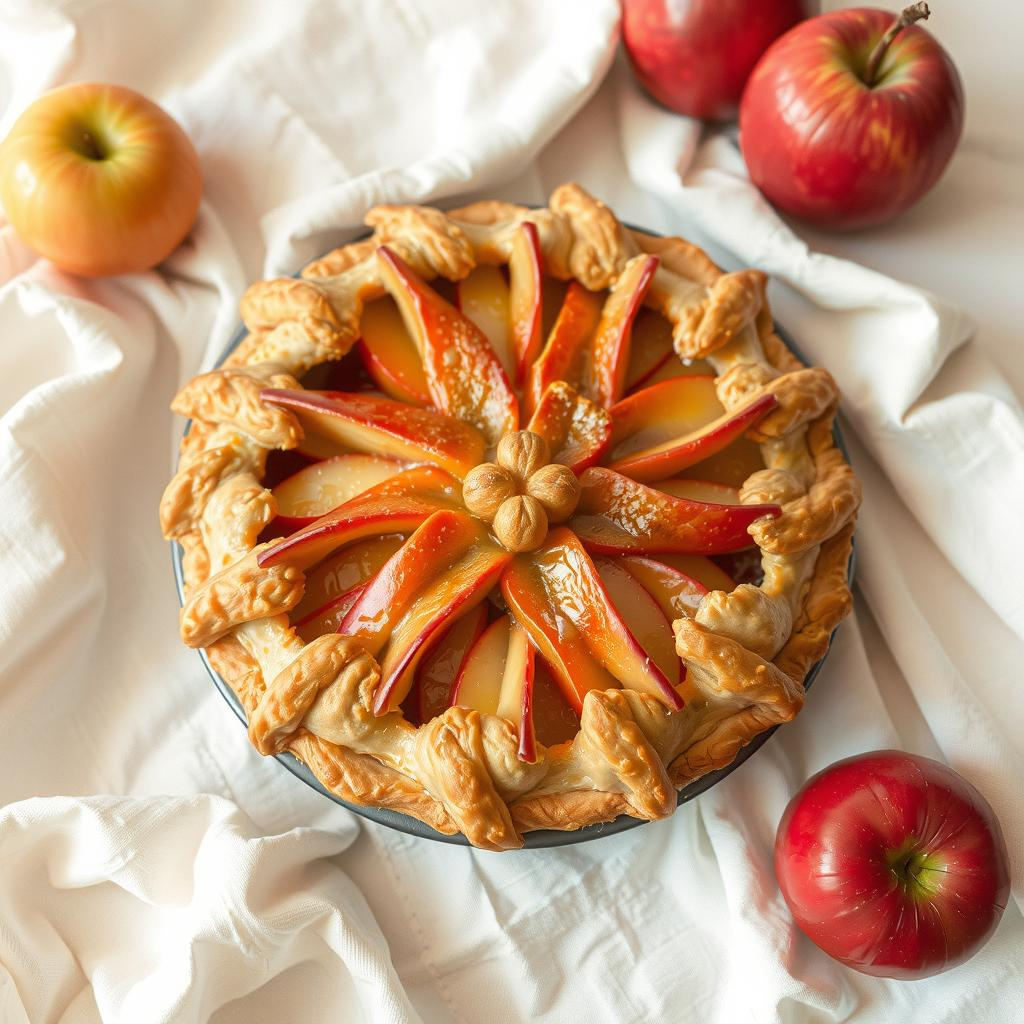cake: (156, 181, 864, 861)
